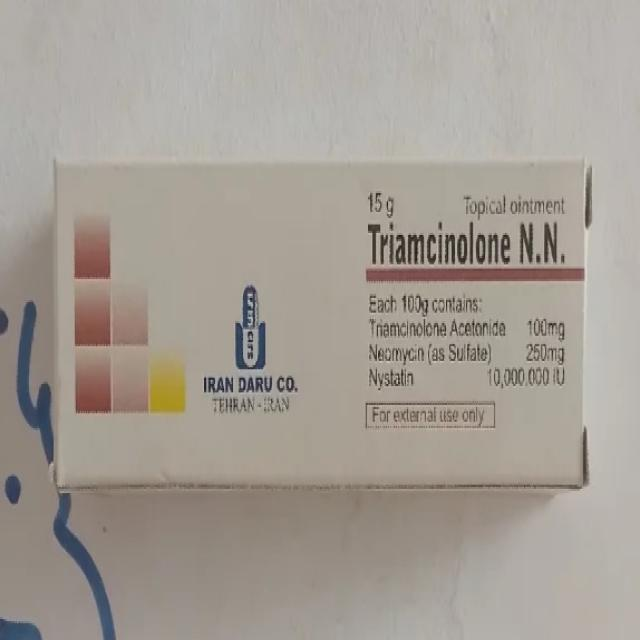drug-name: (365, 213, 570, 271)
